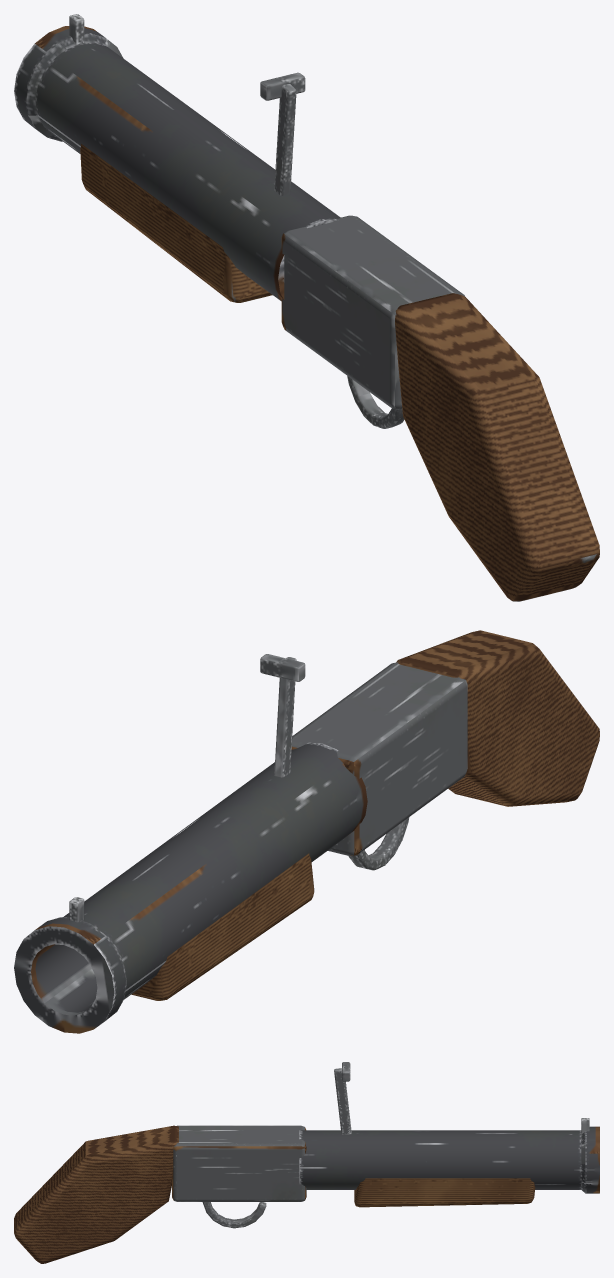
File: grenade-launcher.glb
3 views of the same model, one above another, from view 1: azimuth 30°, elevation 25°; view 2: azimuth 150°, elevation 25°; view 3: azimuth 270°, elevation 25° (orthographic). The views are drawn at different scales.
Visible parts, largest first — view 1: Grenade_Stock, Grenade_Barrel, Grenade_Receiver, Grenade_Forend, Grenade_Ladder, Grenade_Guard, Grenade_Ladder_Head; view 2: Grenade_Barrel, Grenade_Stock, Grenade_Receiver, Grenade_Forend, Grenade_Ladder, Grenade_Guard, Grenade_Ladder_Head; view 3: Grenade_Barrel, Grenade_Stock, Grenade_Receiver, Grenade_Forend, Grenade_Ladder, Grenade_Guard.
Boxes of the visible parts, x1=… form: Grenade_Stock: x1=395, y1=293, x2=599, y2=601; Grenade_Barrel: x1=14, y1=26, x2=340, y2=301; Grenade_Receiver: x1=281, y1=215, x2=464, y2=409; Grenade_Forend: x1=80, y1=144, x2=272, y2=302; Grenade_Ladder: x1=274, y1=84, x2=296, y2=195; Grenade_Guard: x1=347, y1=376, x2=404, y2=428; Grenade_Ladder_Head: x1=260, y1=72, x2=305, y2=100; Grenade_Barrel: x1=14, y1=742, x2=367, y2=1033; Grenade_Stock: x1=396, y1=630, x2=599, y2=806; Grenade_Receiver: x1=291, y1=662, x2=467, y2=855; Grenade_Forend: x1=131, y1=853, x2=314, y2=1000; Grenade_Ladder: x1=274, y1=657, x2=296, y2=777; Grenade_Guard: x1=348, y1=817, x2=409, y2=870; Grenade_Ladder_Head: x1=260, y1=654, x2=305, y2=681; Grenade_Barrel: x1=299, y1=1126, x2=599, y2=1193; Grenade_Stock: x1=14, y1=1125, x2=178, y2=1263; Grenade_Receiver: x1=172, y1=1125, x2=306, y2=1201; Grenade_Forend: x1=354, y1=1178, x2=535, y2=1207; Grenade_Ladder: x1=334, y1=1068, x2=351, y2=1134; Grenade_Guard: x1=202, y1=1202, x2=266, y2=1228.
Size of the model in its own units: 0.065 by 0.2008 by 0.5653.
1 material, 1 textured.
